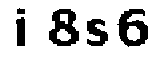6: (116, 6, 151, 49)
8: (46, 8, 81, 51)
i: (11, 3, 36, 51)
s: (81, 16, 110, 48)
